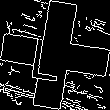L_N: (36, 28, 74, 82)
